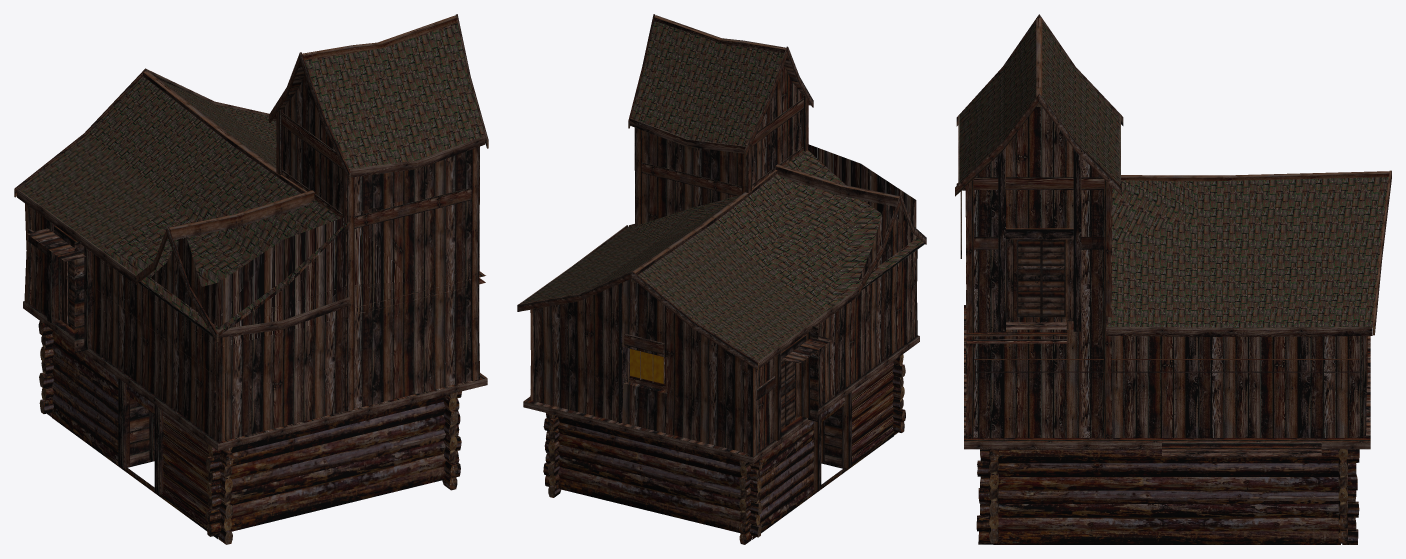
The model's file is Village_main_house.glb.
3 views of the same model, side by side, from view 1: azimuth 30°, elevation 25°; view 2: azimuth 150°, elevation 25°; view 3: azimuth 270°, elevation 25° (orthographic). The views are drawn at different scales.
Visible parts, largest first — view 1: Cube.1017, Cube.1033, Cube.988, Cube.1034, Cube.998, Cube.1031, Cube.1042, Cube.999, Cube.1071, Cube.1070, Cube.1099, Cube.1109 (+14 smaller); view 2: Cube.1017, Cube.1033, Cube.987, Cube.1034, Cube.998, Cube.1031, Cube.1042, Cube.999, Cube.1096, Cube.1099, Cube.1110, Window.024 (+14 smaller); view 3: Cube.1017, Cube.1033, Cube.991, Cube.1034, Cube.1042, Cube.1032, Cube.1114, Cube.1125, Cube.1070, Cube.1073, Cube.1098, Cube.1093 (+11 smaller).
Boxes of the visible parts, x1,y1,x2,y2 form: Cube.1017: (30,76,471,441); Cube.1033: (18,76,349,337); Cube.988: (230,395,445,531); Cube.1034: (273,23,485,169); Cube.998: (51,331,218,539); Cube.1031: (27,220,92,352); Cube.1042: (23,301,487,450); Cube.999: (118,378,163,494); Cube.1071: (342,167,354,411); Cube.1070: (470,146,479,380); Cube.1099: (168,190,315,239); Cube.1109: (354,188,471,228); Cube.1017: (533,66,916,453); Cube.1033: (522,150,924,361); Cube.987: (558,416,741,532); Cube.1034: (631,21,808,146); Cube.998: (752,362,894,539); Cube.1031: (773,326,832,440); Cube.1042: (523,335,919,463); Cube.999: (813,392,851,491); Cube.1096: (517,271,758,370); Cube.1099: (775,164,900,206); Cube.1110: (641,162,741,196); Window.024: (629,348,665,386); Cube.1017: (973,107,1363,437); Cube.1033: (962,177,1388,331); Cube.991: (993,449,1340,544); Cube.1034: (959,23,1119,184); Cube.1042: (964,305,1370,457); Cube.1032: (1006,228,1073,322); Cube.1114: (998,147,1081,331); Cube.1125: (1106,326,1372,336); Cube.1070: (965,179,974,438); Cube.1073: (1103,179,1112,438); Cube.1098: (1121,171,1389,181); Cube.1093: (955,93,1121,196).
Size of the model in its own units: 14.58 by 20.06 by 17.03.
Materials: 10 (10 with a texture image).
